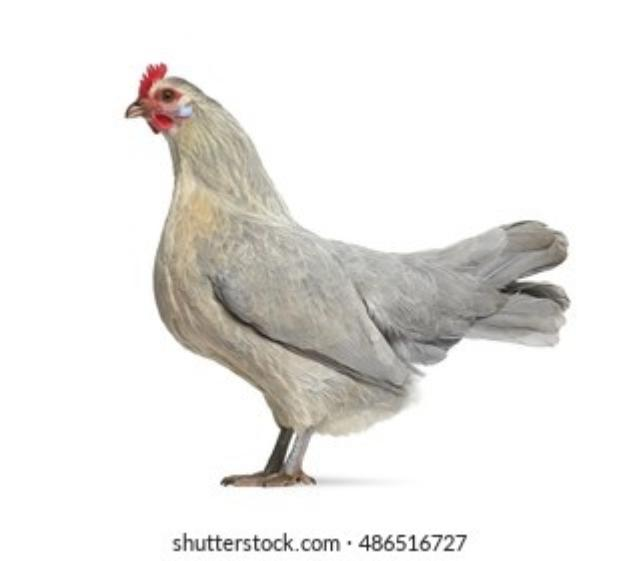Chicken: (126, 60, 572, 486)
